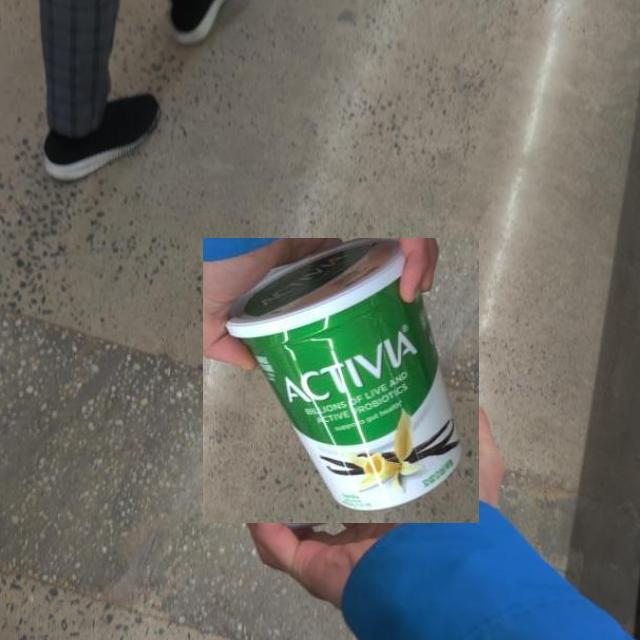Yogurt: (202, 238, 479, 523)
